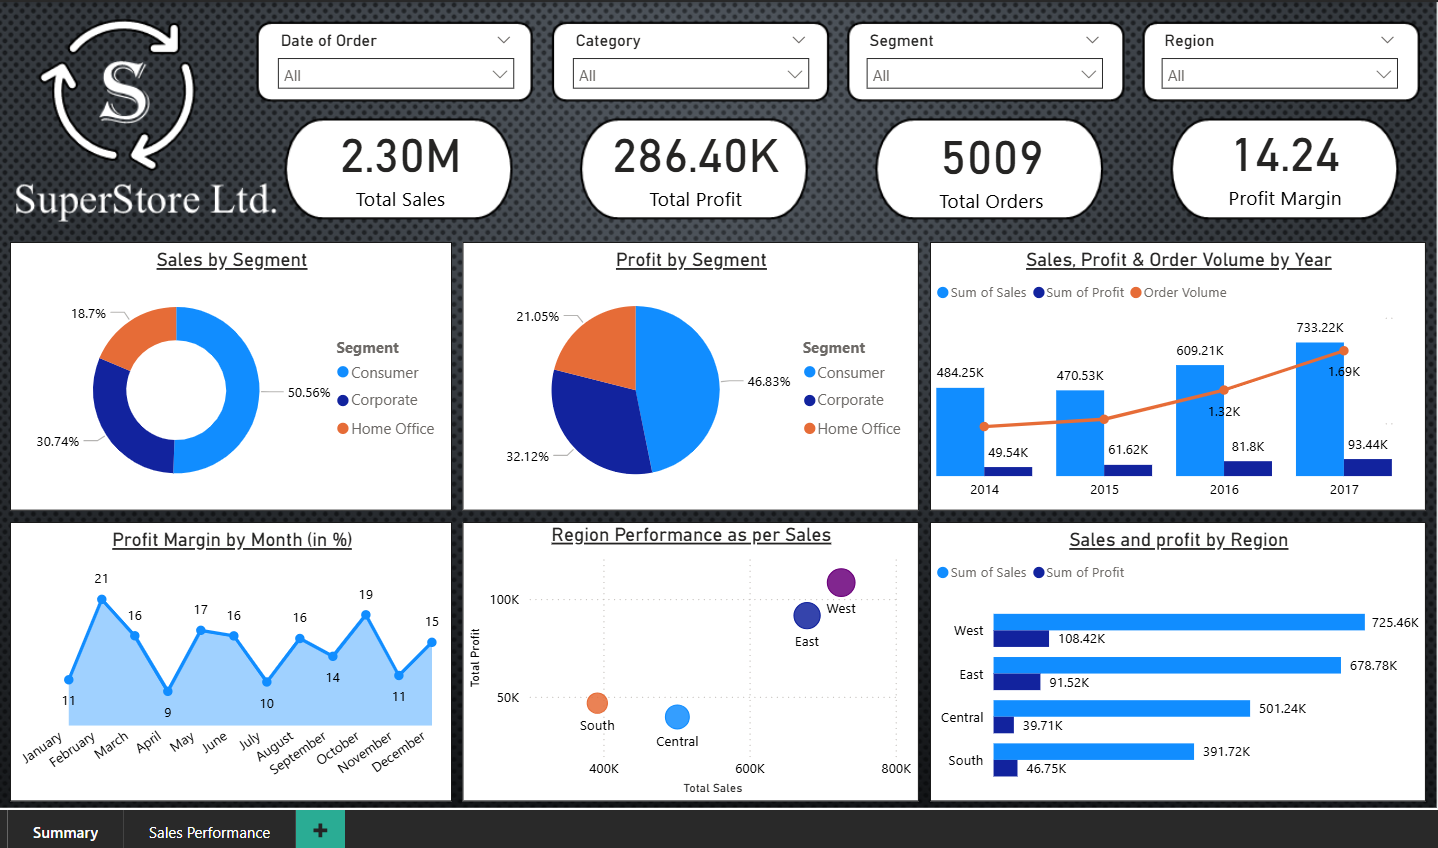

Layout of this report page (visuals, bound fields, positions):
{"tool":"powerbi","page":{"name":"Summary","canvas":[1280,720],"ordinal":0},"visuals":[{"type":"slicer","fields":{"Values":["Sample - Superstore.Order Date.Variation.Date Hierarchy.Year1","Sample - Superstore.Order Date.Variation.Date Hierarchy.Quarter","Sample - Superstore.Order Date.Variation.Date Hierarchy.Month","Sample - Superstore.Order Date.Variation.Date Hierarchy.Day"]},"box":[236.8,20.9,230.7,61.4],"z":0},{"type":"card","fields":{"Values":["Measure.Total Sales"]},"box":[235.6,88.3,241.7,111.7],"z":1000},{"type":"card","fields":{"Values":["Measure.Profit Margin"]},"box":[1009.8,87.1,269.9,111.7],"z":2000},{"type":"card","fields":{"Values":["Measure.Total Orders"]},"box":[730.1,89.6,305.5,111.7],"z":3000},{"type":"card","fields":{"Values":["Measure.Total Profit"]},"box":[466.3,87.1,306.8,112.9],"z":4000},{"type":"donutChart","title":"Sales by Segment","fields":{"Category":["Sample - Superstore.Segment"],"Y":["Sum(Sample - Superstore.Sales)"]},"box":[8.6,213.5,393.9,239.3],"z":5000},{"type":"pieChart","title":"Profit by Segment","fields":{"Category":["Sample - Superstore.Segment"],"Y":["Sum(Sample - Superstore.Profit)"]},"box":[412.8,215.1,405.8,238.4],"z":6000},{"type":"scatterChart","title":"Region Performance as per Sales","fields":{"X":["Sum(Sample - Superstore.Sales)"],"Y":["Sum(Sample - Superstore.Profit)"],"Series":["Sample - Superstore.Region"],"Size":["CountNonNull(Sample - Superstore.Order ID)"]},"box":[412.3,462.6,406.1,249.1],"z":7000},{"type":"lineClusteredColumnComboChart","title":"Sales, Profit & Order Volume by Year","fields":{"Y":["Sum(Sample - Superstore.Sales)","Sum(Sample - Superstore.Profit)"],"Category":["Sample - Superstore.Order Date.Variation.Date Hierarchy.Year1"],"Y2":["Count(Sample - Superstore.Order ID)"]},"box":[828.2,213.5,441.7,239.3],"z":8000},{"type":"clusteredBarChart","title":"Sales and profit by Region","fields":{"Y":["Sum(Sample - Superstore.Sales)","Sum(Sample - Superstore.Profit)"],"Category":["Sample - Superstore.Region"]},"box":[828.2,462.6,441.7,249.1],"z":9000},{"type":"lineChart","title":"Profit Margin by Month (in %)","fields":{"Y":["Measure.Profit Margin"],"Category":["Sample - Superstore.Order Date.Variation.Date Hierarchy.Month"]},"box":[8.6,462.6,393.9,249.1],"z":10000},{"type":"slicer","fields":{"Values":["Sample - Superstore.Category"]},"box":[499.4,20.9,230.7,61.4],"z":11000},{"type":"slicer","fields":{"Values":["Sample - Superstore.Segment"]},"box":[762,20.9,230.7,61.4],"z":12000},{"type":"slicer","fields":{"Values":["Sample - Superstore.Region"]},"box":[1024.5,20.9,230.7,61.4],"z":13000}]}

Visuals, with their boxes on the page's 1280x720 design canvas (x1, y1, x2, y2). These are canvas units, not pixel positions in the 1438x848 screenshot, which may show the page scaled, cropped or inside an application window:
slicer - Sample - Superstore.Order Date.Variation.Date Hierarchy.Year1 x Sample - Superstore.Order Date.Variation.Date Hierarchy.Quarter: 237,21,468,82
card - Measure.Total Sales: 236,88,477,200
card - Measure.Profit Margin: 1010,87,1280,199
card - Measure.Total Orders: 730,90,1036,201
card - Measure.Total Profit: 466,87,773,200
"Sales by Segment" donutChart: 9,214,402,453
"Profit by Segment" pieChart: 413,215,819,454
"Region Performance as per Sales" scatterChart: 412,463,818,712
"Sales, Profit & Order Volume by Year" lineClusteredColumnComboChart: 828,214,1270,453
"Sales and profit by Region" clusteredBarChart: 828,463,1270,712
"Profit Margin by Month (in %)" lineChart: 9,463,402,712
slicer - Sample - Superstore.Category: 499,21,730,82
slicer - Sample - Superstore.Segment: 762,21,993,82
slicer - Sample - Superstore.Region: 1024,21,1255,82
